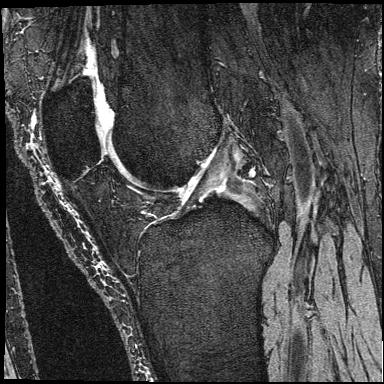SagKneeJointArea: (39, 75, 278, 308)
